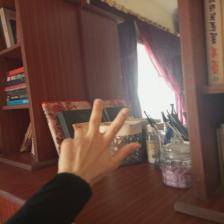three: (45, 92, 148, 189)
